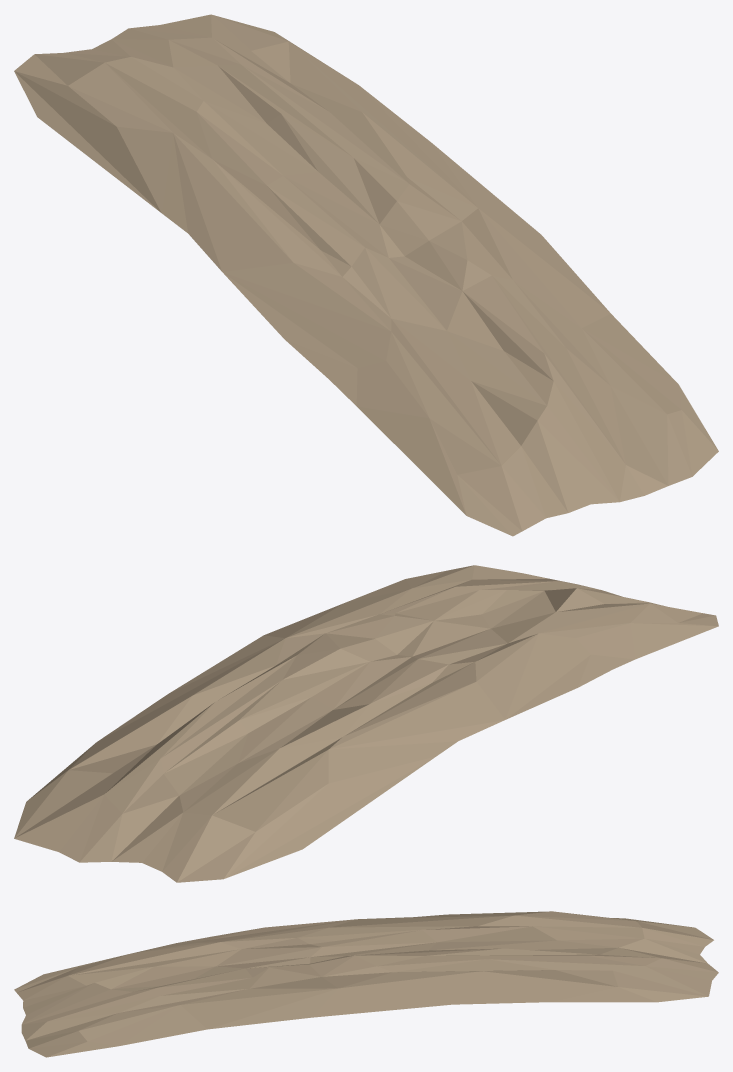
Rendered from SM_Env_DirtRoad_Slope_Down_01.fbx.
3 renders of one model, top to bottom at view 1: azimuth 30°, elevation 25°; view 2: azimuth 150°, elevation 25°; view 3: azimuth 270°, elevation 25°, orthographic. The views are drawn at different scales.
Parts seen in each view (by area): view 1: SM_Env_DirtRoad_Slope_Down_01; view 2: SM_Env_DirtRoad_Slope_Down_01; view 3: SM_Env_DirtRoad_Slope_Down_01.
Boxes of the visible parts, box(x1,y1,x2,y2) form: SM_Env_DirtRoad_Slope_Down_01: box(14, 14, 718, 536); SM_Env_DirtRoad_Slope_Down_01: box(14, 565, 718, 882); SM_Env_DirtRoad_Slope_Down_01: box(14, 911, 718, 1057).
Size of the model in its own units: 268 by 112 by 831.
